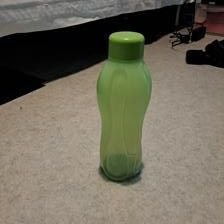bottle: (88, 29, 155, 181)
